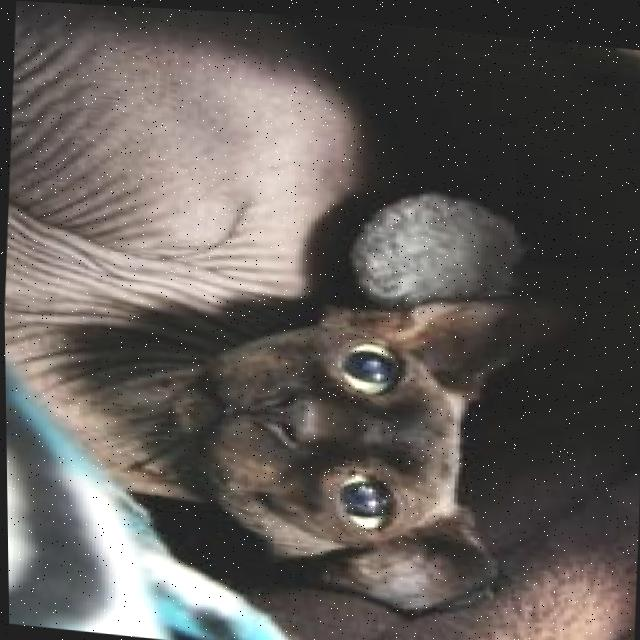Sphynx: (0, 0, 603, 634)
